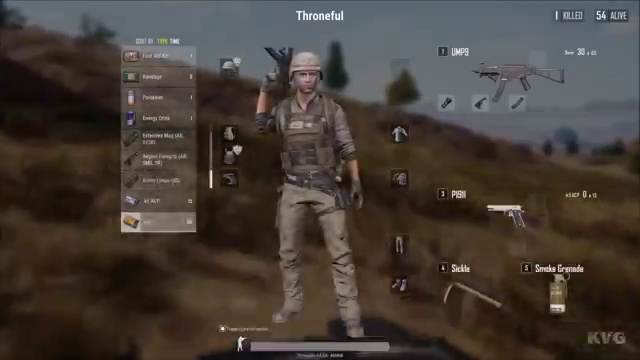Player: (249, 45, 381, 323)
